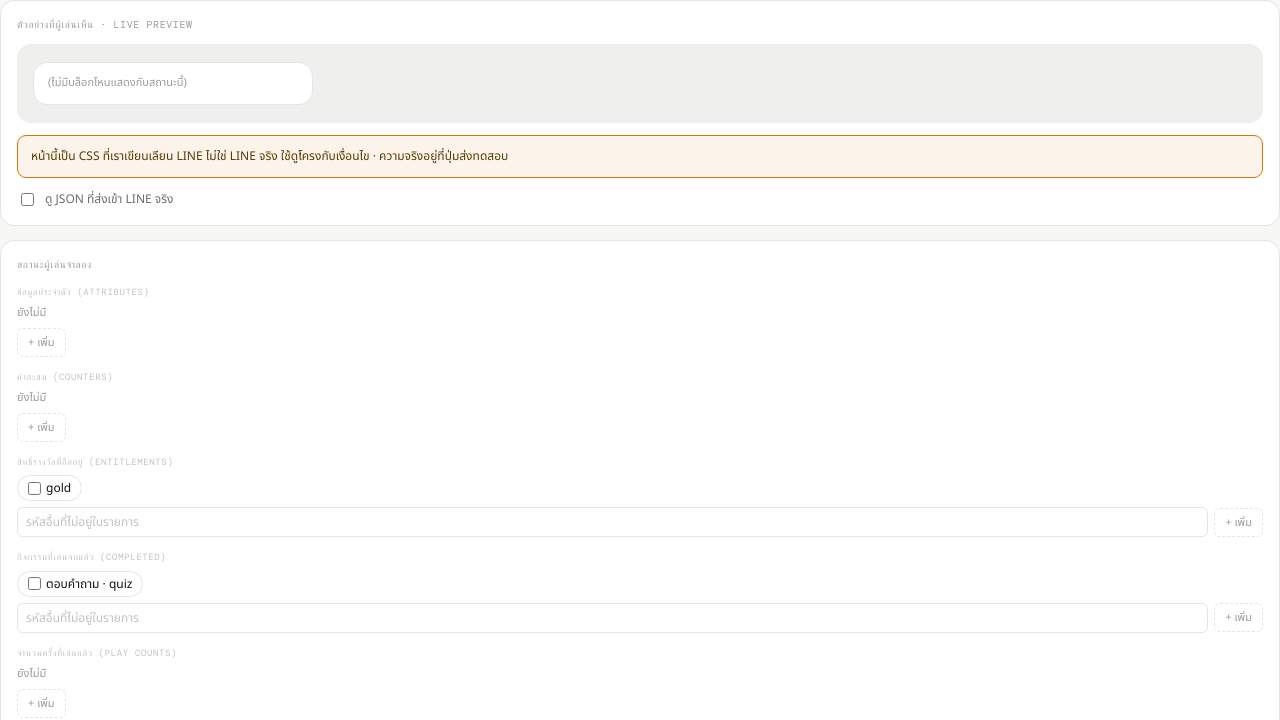
Scenario: PreviewPanel · เชื่อม StateSwitcher เข้ากับ Preview จริง › สลับสถานะผ่าน StateSwitcher แล้วตัวอย่างเปลี่ยนตาม (ไม่ใช่สอง state คนละก้อน)
Expected: the text "เห็นเมื่อมีสิทธิ์" is not shown
Click the checkbox labelled "gold".
click(34, 488)  # box top-left (28, 482), bottom-right (41, 495)
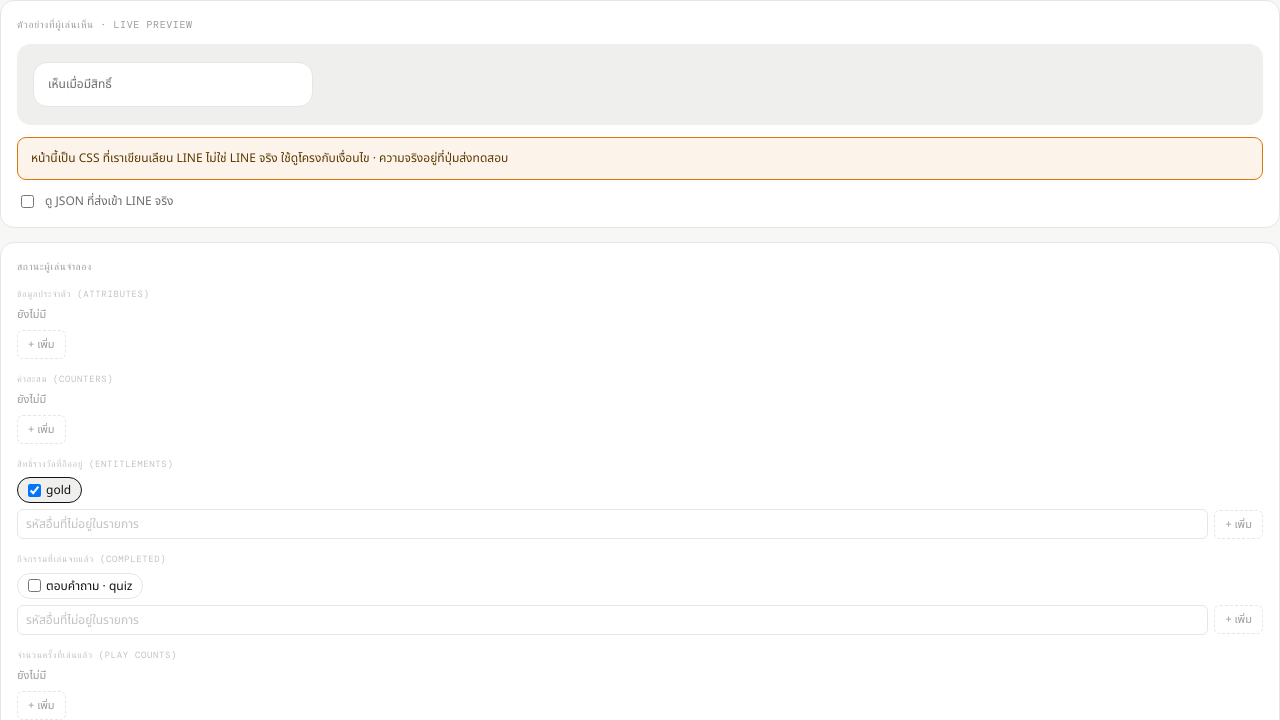
Expected: the text "เห็นเมื่อมีสิทธิ์" is shown, top-left (48, 75), bottom-right (112, 93)
